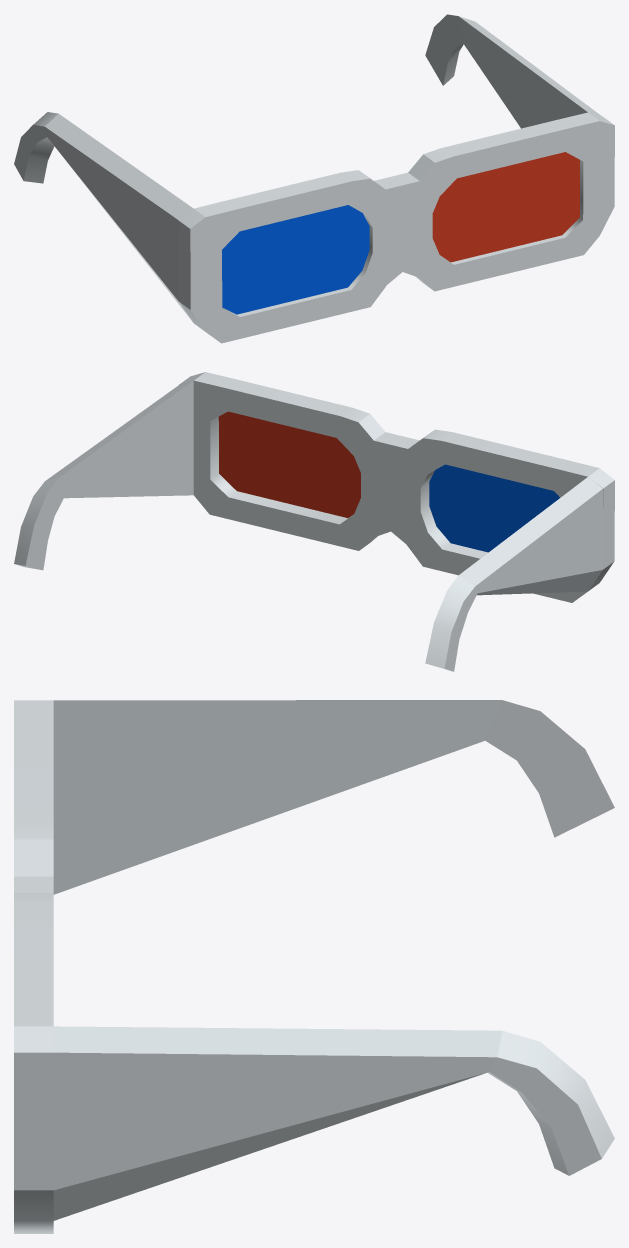
Rendered from Eyewear_12.fbx.
The picture shows the model from 3 angles, top to bottom: view 1: azimuth 30°, elevation 25°; view 2: azimuth 150°, elevation 25°; view 3: azimuth 270°, elevation 25°; orthographic projection. The views are drawn at different scales.
Visible parts, largest first — view 1: Eyewear_12; view 2: Eyewear_12; view 3: Eyewear_12.
Part boxes in pixels (bbox=[...]): Eyewear_12: bbox=[14, 14, 614, 343]; Eyewear_12: bbox=[14, 372, 614, 671]; Eyewear_12: bbox=[14, 700, 614, 1233].
Size of the model in its own units: 68.71 by 19.88 by 49.01.
